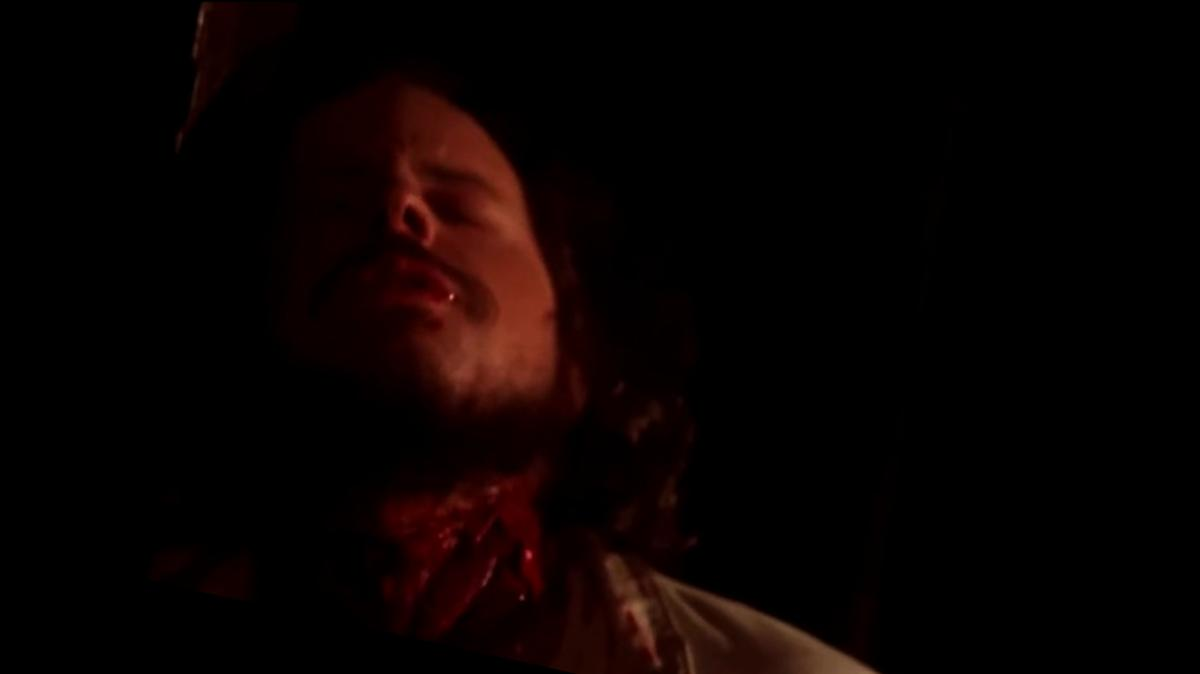Fire: (244, 468, 562, 666)
